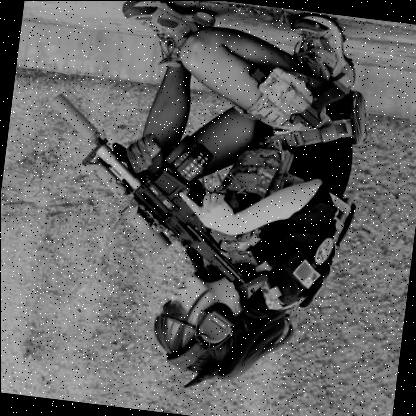rifle: (24, 77, 291, 309), (245, 53, 358, 141)
